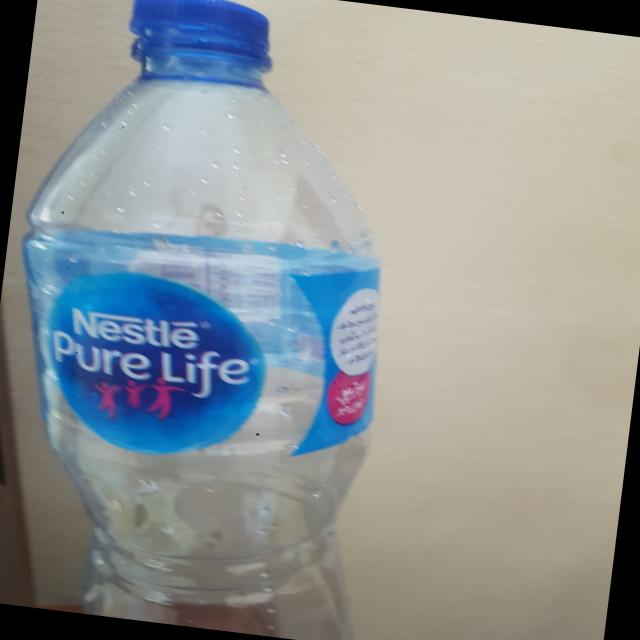general: (0, 0, 436, 640)
